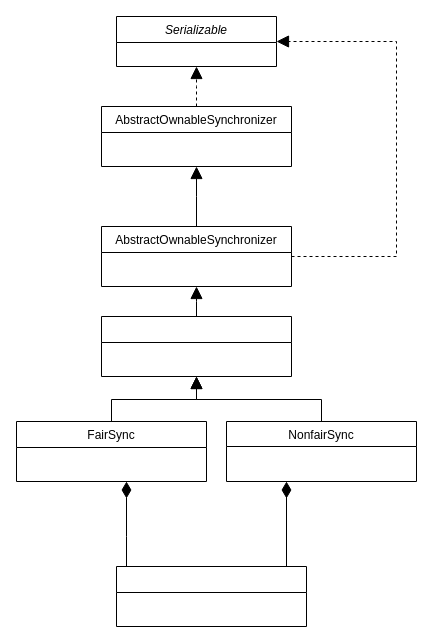
The diagram is 433 pixels wide and 643 high, and some of its shapes have lost their labels. The centre of each missing label's shape, as x and y in pixels:
"ReentrantLock" goes at (211,596).
"Sync" goes at (196,346).
